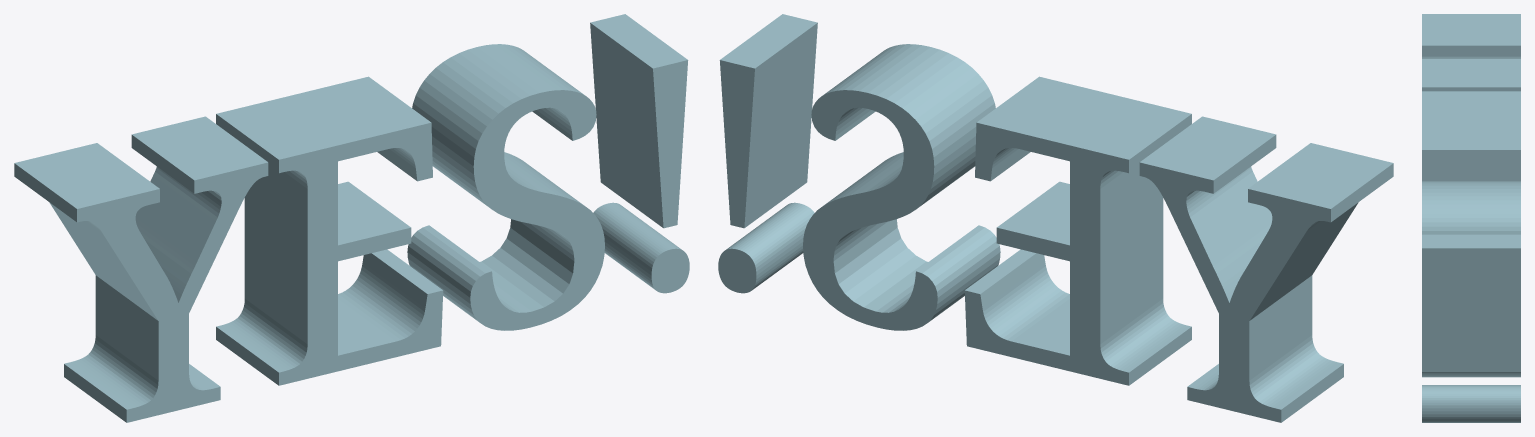
The model's file is yes.glb.
3 renders of one model, left to right at view 1: azimuth 30°, elevation 25°; view 2: azimuth 150°, elevation 25°; view 3: azimuth 270°, elevation 25°, orthographic. The views are drawn at different scales.
Visible parts, largest first — view 1: Mesh_Mesh_head_geo.001_lambert2SG.001; view 2: Mesh_Mesh_head_geo.001_lambert2SG.001; view 3: Mesh_Mesh_head_geo.001_lambert2SG.001.
Boxes of the visible parts, x1,y1,x2,y2 form: Mesh_Mesh_head_geo.001_lambert2SG.001: (14,14,689,422); Mesh_Mesh_head_geo.001_lambert2SG.001: (718,14,1393,422); Mesh_Mesh_head_geo.001_lambert2SG.001: (1422,14,1520,422).
Bounding box in the file's own units: 56.28 × 20.4 × 10.
